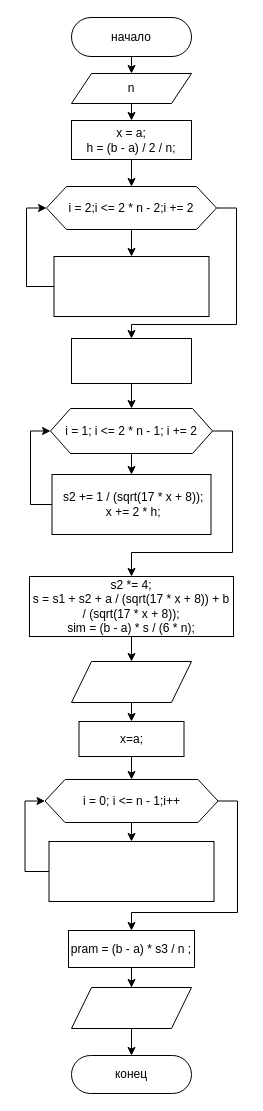
Some shapes in this 263 by 1111 pixel diagram are drawn without their labels. The shapes that lost their labels are listed below. From the top down, each one's centre as x and y in pixels, then its label:
At point (131, 286): "s1 += 1 / (sqrt(17 * x + 8)); x += 2 * h;".
At point (131, 361): "s1 *= 2; x = a;".
At point (131, 681): "sim".
At point (131, 871): "s3 += 1 / (sqrt(17 * x + 8)); x += 2 * h;".
At point (131, 1007): "pram".
